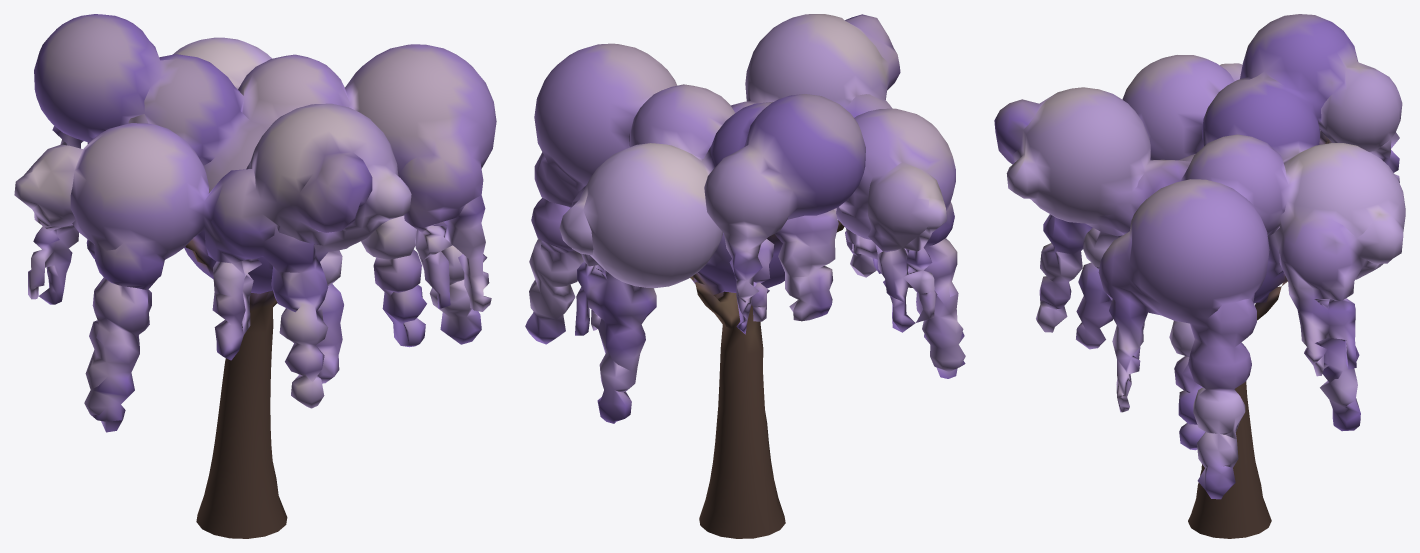
Rendered from weeping-tree-lod1.obj.
3 renders of one model, left to right at view 1: azimuth 30°, elevation 25°; view 2: azimuth 150°, elevation 25°; view 3: azimuth 270°, elevation 25°, orthographic. The views are drawn at different scales.
Parts seen in each view (by area): view 1: simplified; view 2: simplified; view 3: simplified.
Boxes of the visible parts, x1,y1,x2,y2 form: simplified: [14, 14, 496, 538]; simplified: [525, 14, 965, 538]; simplified: [994, 14, 1405, 538].
Size of the model in its own units: 374 by 395 by 323.
